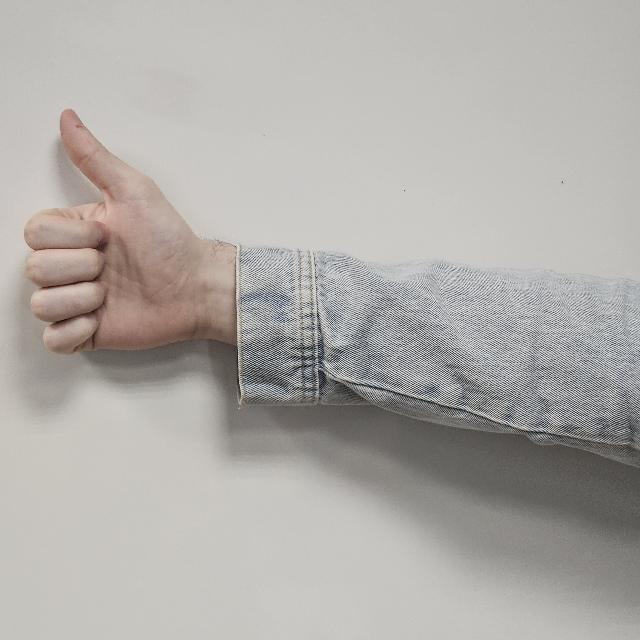Start: (23, 95, 229, 389)
